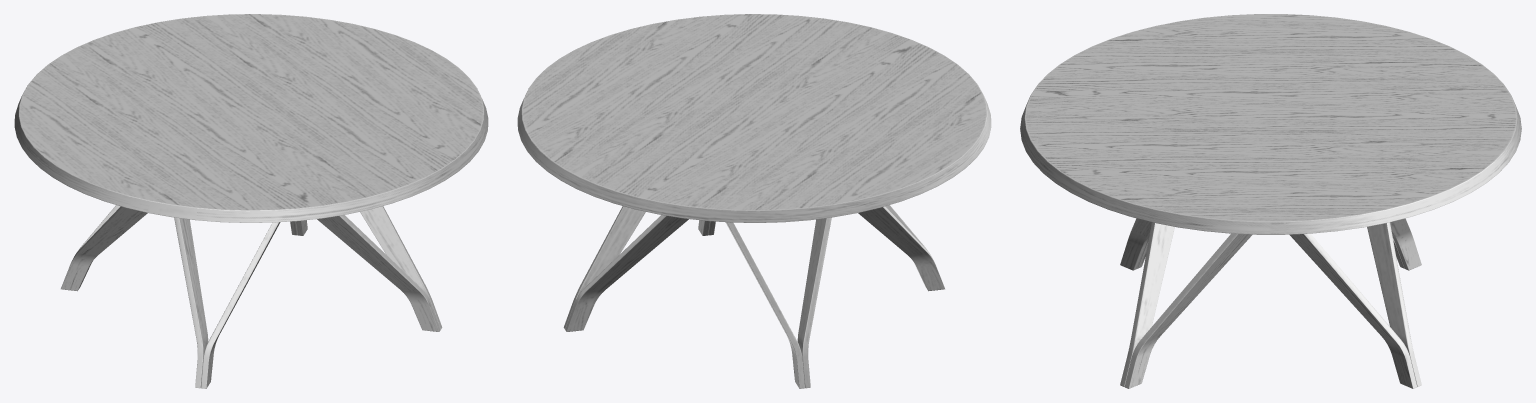
File: raw_model.obj
3 views of the same model, side by side, from view 1: azimuth 30°, elevation 25°; view 2: azimuth 150°, elevation 25°; view 3: azimuth 270°, elevation 25° (orthographic). The views are drawn at different scales.
Parts seen in each view (by area): view 1: solid_001; view 2: solid_001; view 3: solid_001.
Part boxes in pixels (x1,y1,x2,y2): solid_001: (14,14,488,388); solid_001: (517,14,991,388); solid_001: (1020,14,1521,388).
Bounding box in the file's own units: 1.6 × 0.73 × 1.6.
Materials: 1 (1 with a texture image).
